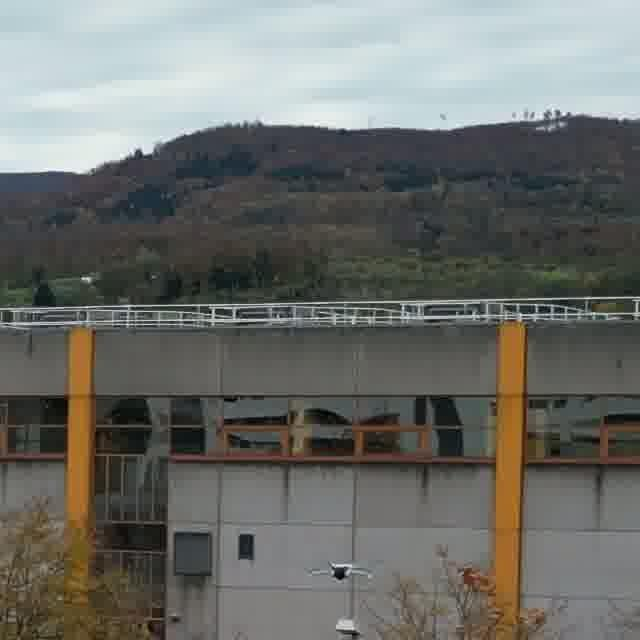Drohne: (309, 562, 371, 580)
